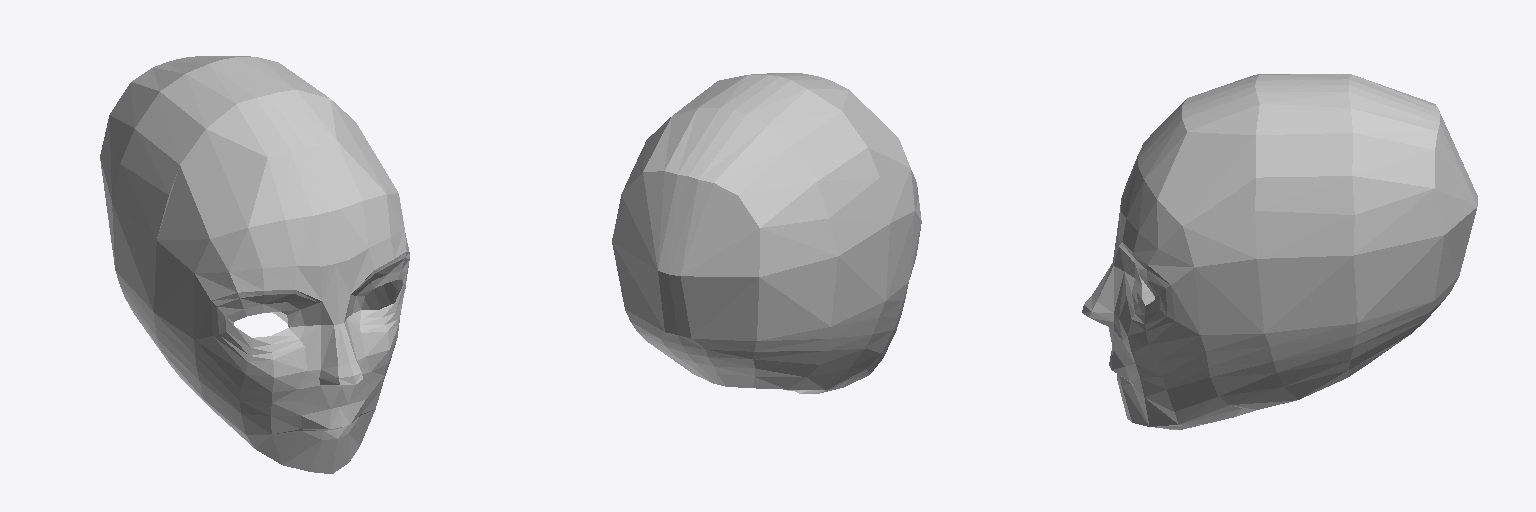
File: head_low.obj
3 renders of one model, left to right at view 1: azimuth 30°, elevation 25°; view 2: azimuth 150°, elevation 25°; view 3: azimuth 270°, elevation 25°, orthographic.
Visible parts, largest first — view 1: polySurface469 polySurface462; view 2: polySurface469 polySurface462; view 3: polySurface469 polySurface462.
Boxes of the visible parts, box(x1,y1,x2,y2) form: polySurface469 polySurface462: box(100, 56, 409, 473); polySurface469 polySurface462: box(612, 73, 921, 393); polySurface469 polySurface462: box(1082, 74, 1477, 429).
Size of the model in its own units: 13.85 by 20.42 by 21.48.